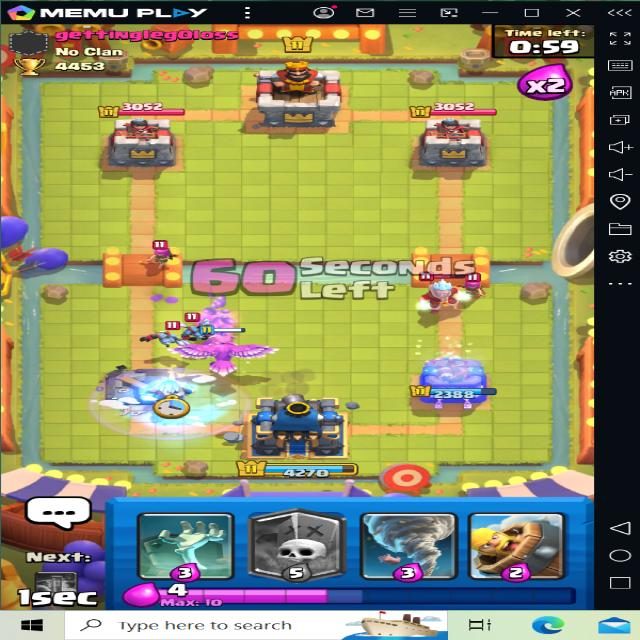archer: (134, 235, 177, 266), (465, 273, 494, 299)
ice-wizard: (408, 272, 472, 319)
minion: (176, 311, 213, 345), (133, 321, 174, 349)
